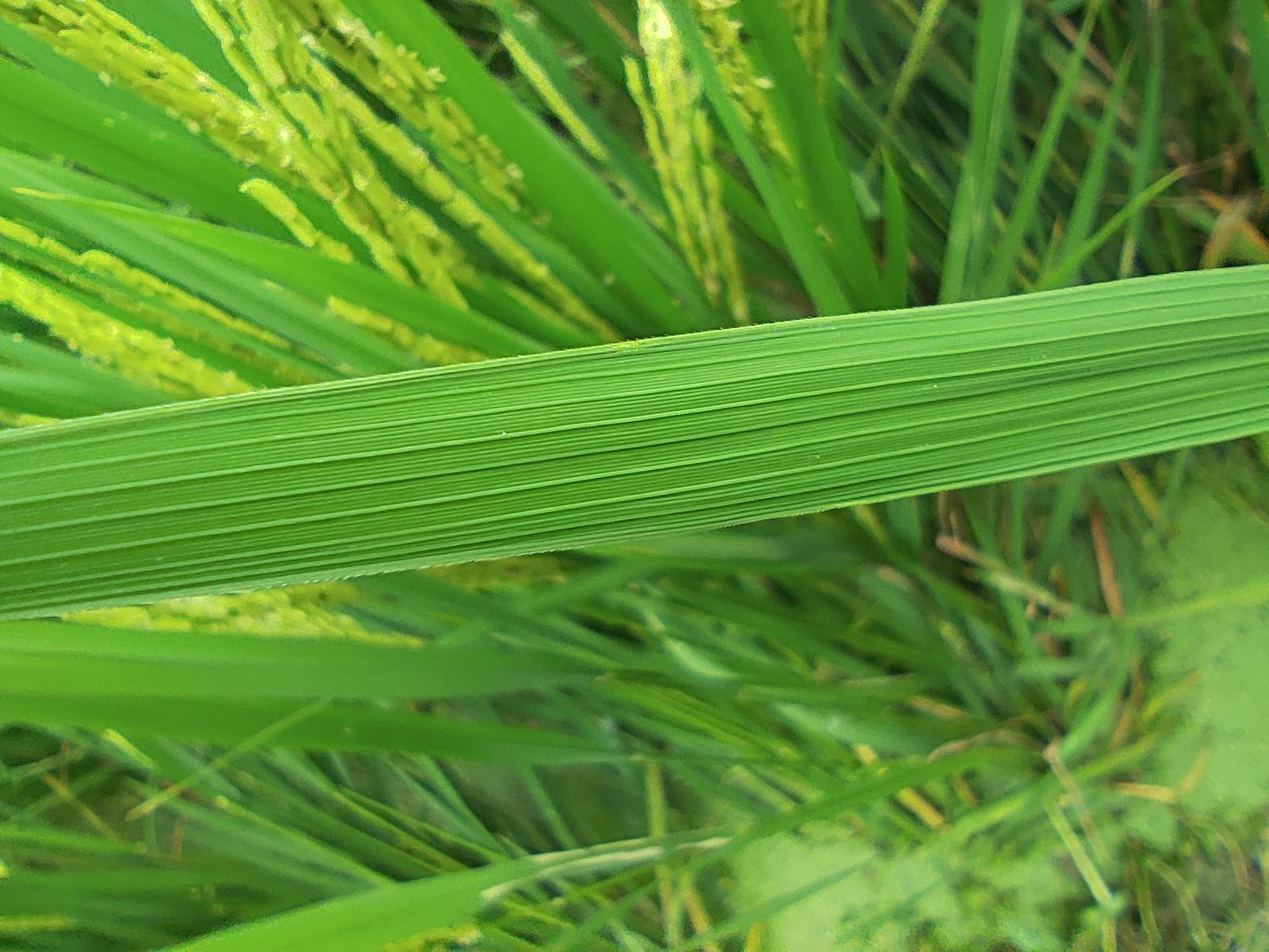Healthy: (446, 0, 914, 951)
